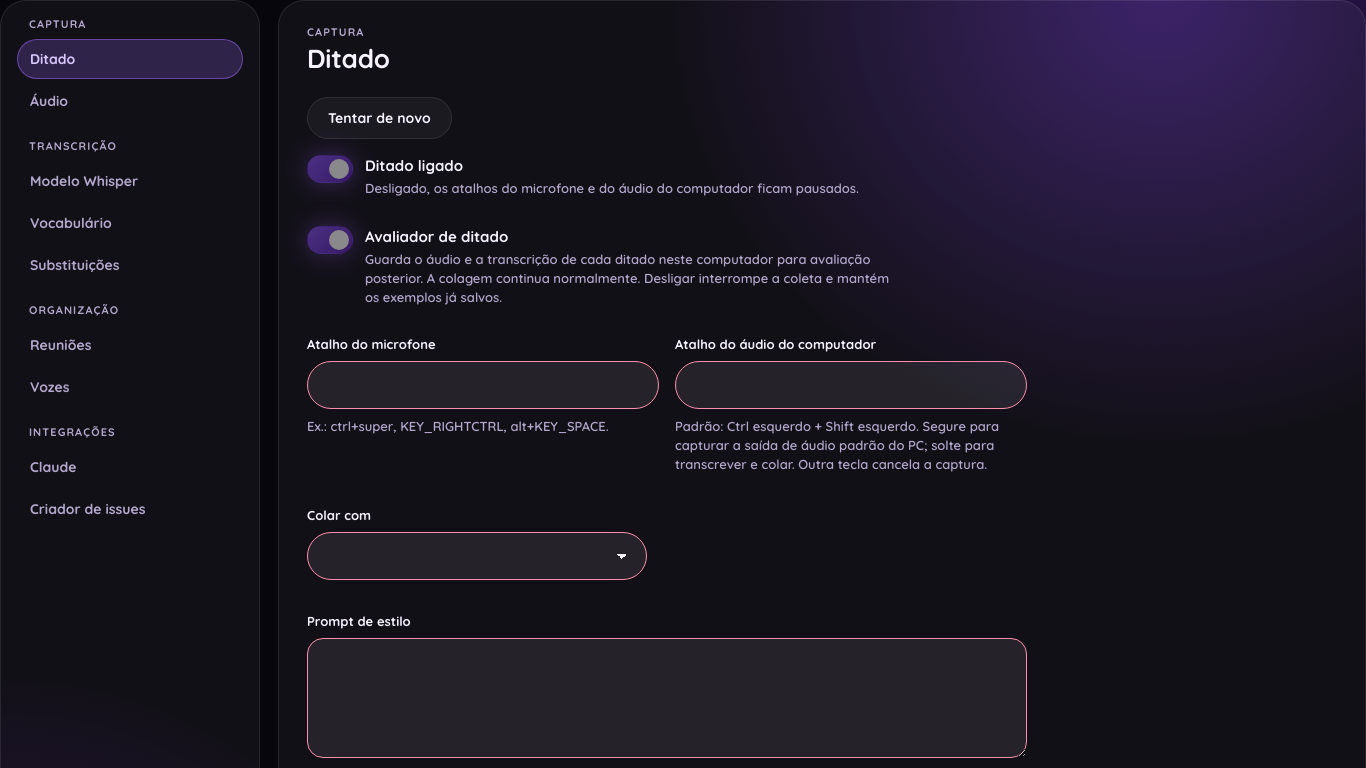
Test case: SettingsView › preserves separate unsaved text drafts when changing sections
Click the button "Vocabulário". click: (130,223)
box: 17,203 -> 243,243
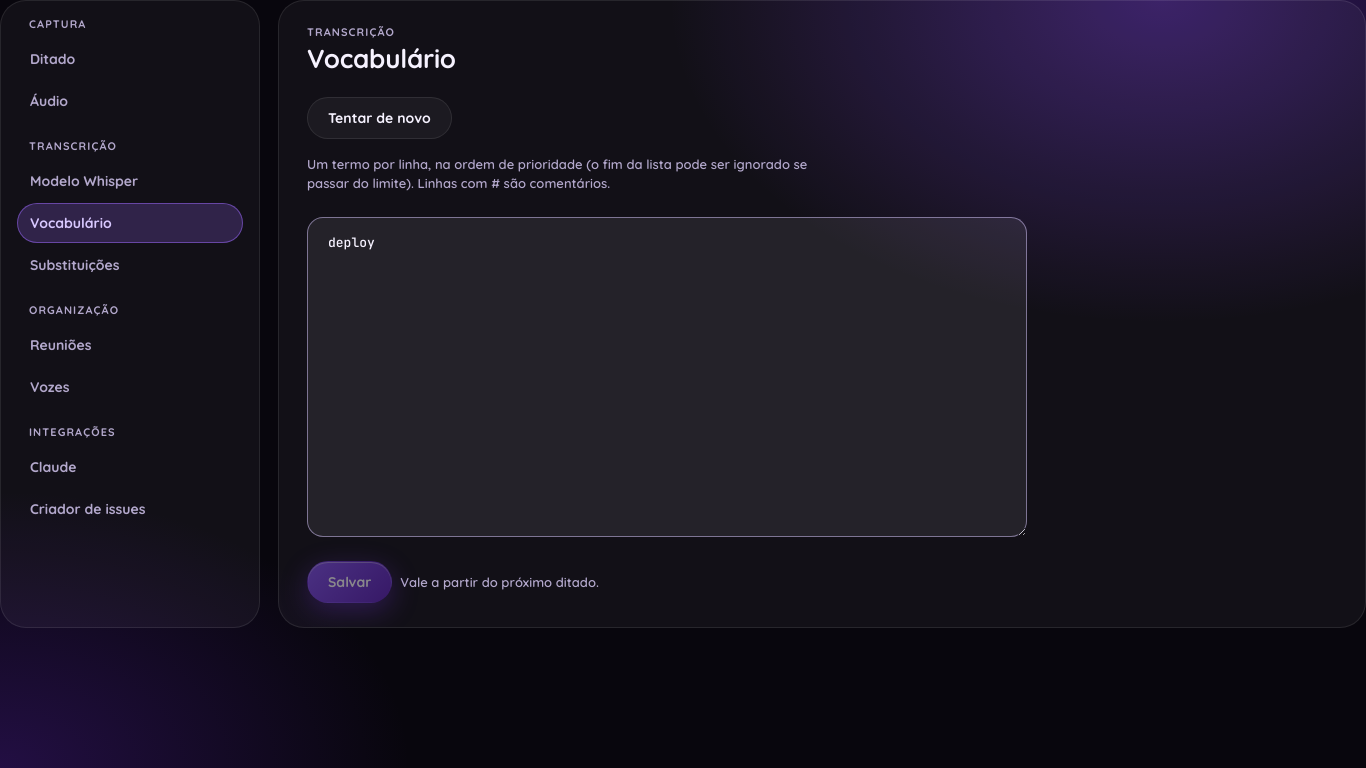
Replace the text in the text box named "Vocabulário" with "termo ainda não salvo". click: (667,377)
box: 307,217 -> 1027,537
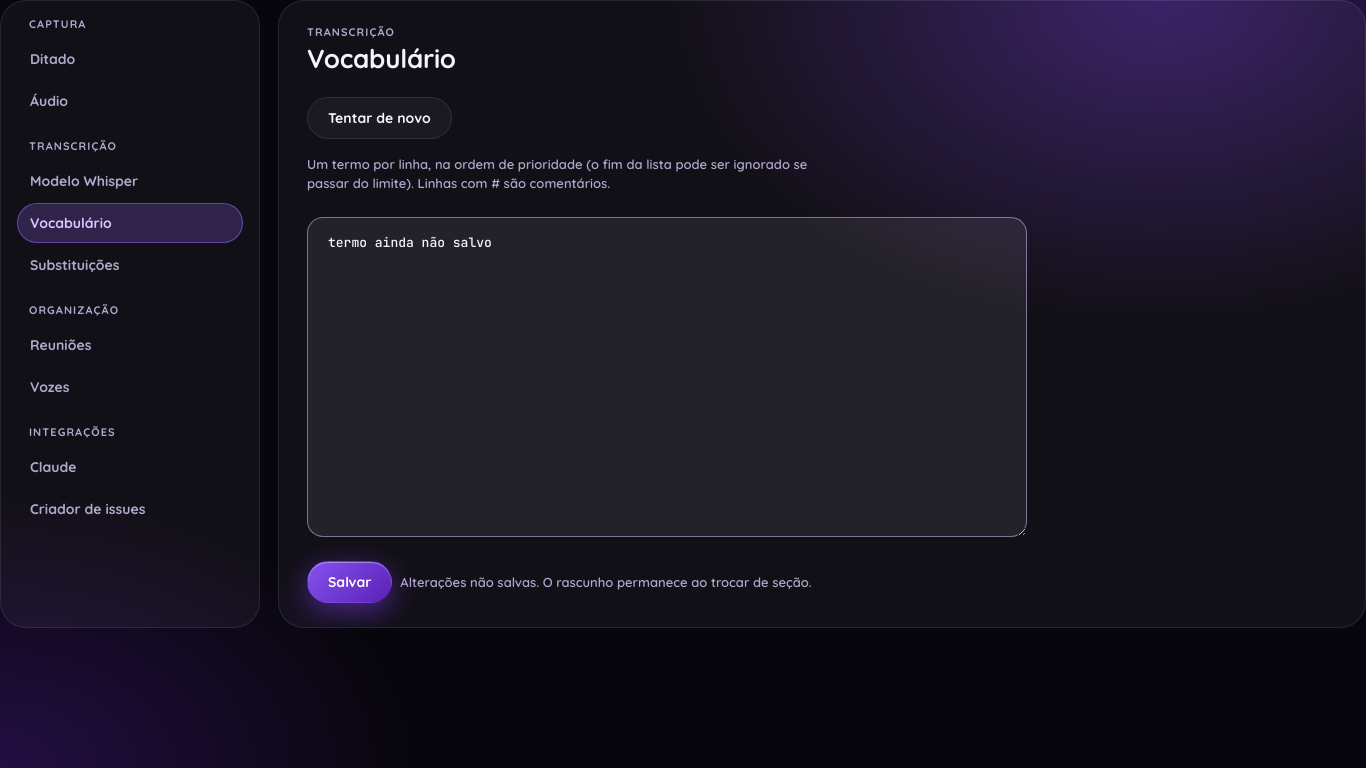
Click the button "Substituições". click: (130,265)
box: 17,245 -> 243,285
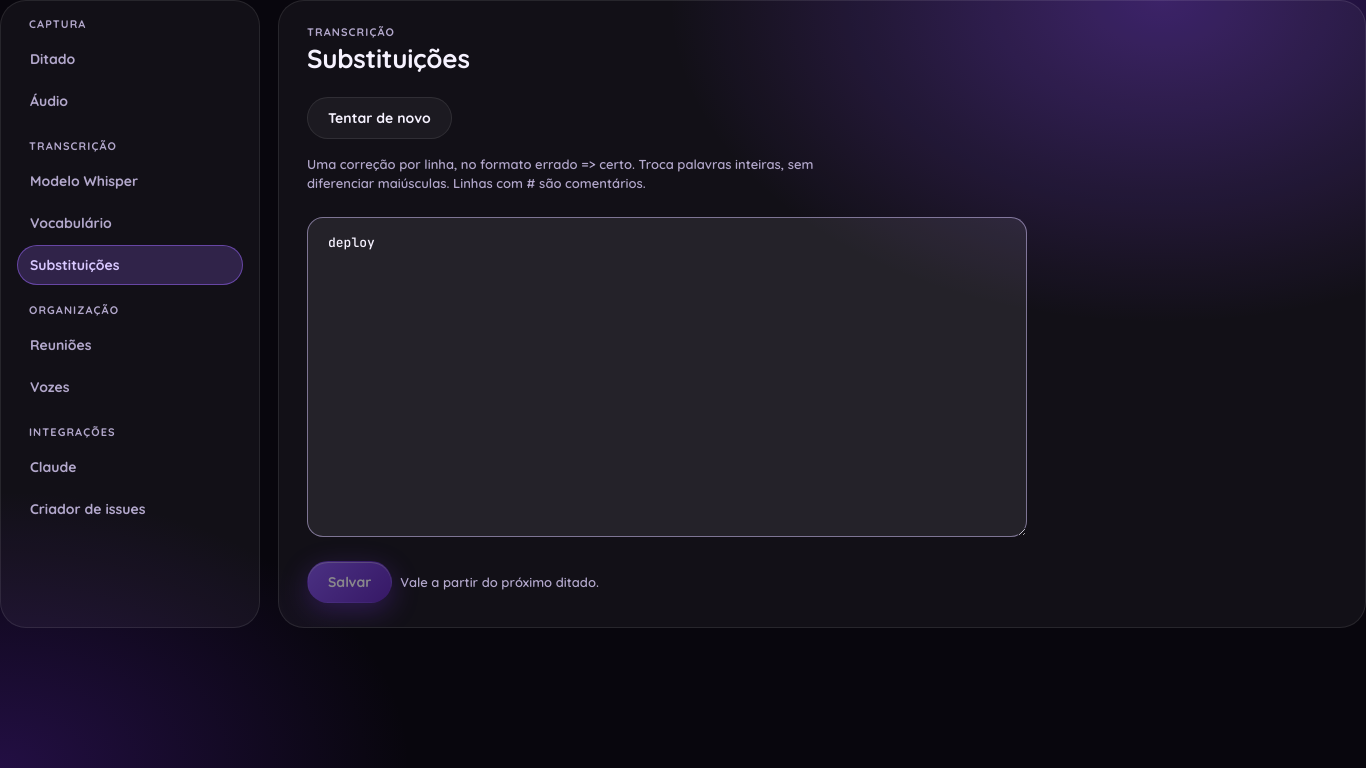
Replace the text in the text box named "Substituições" with "errado => certo". click: (667,377)
box: 307,217 -> 1027,537
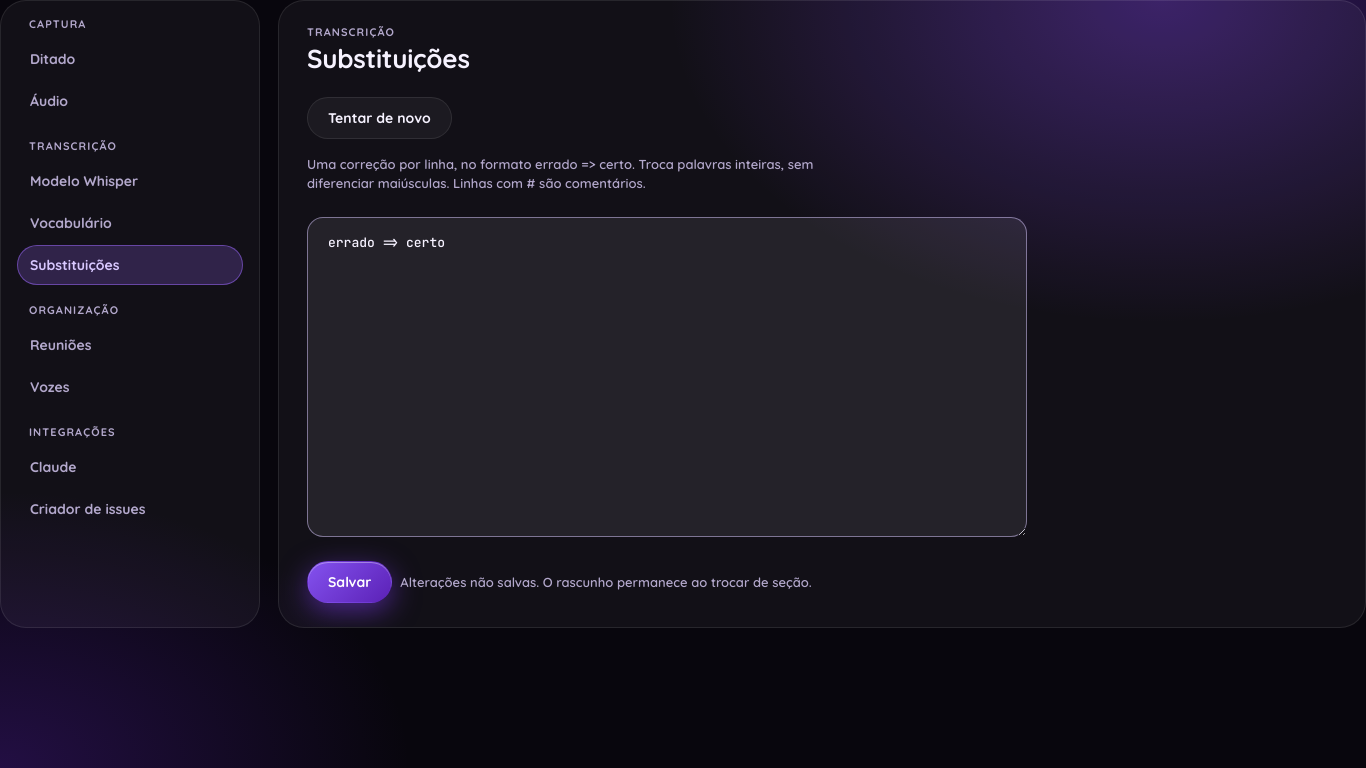
Click the button "Vocabulário". click: (130,223)
box: 17,203 -> 243,243
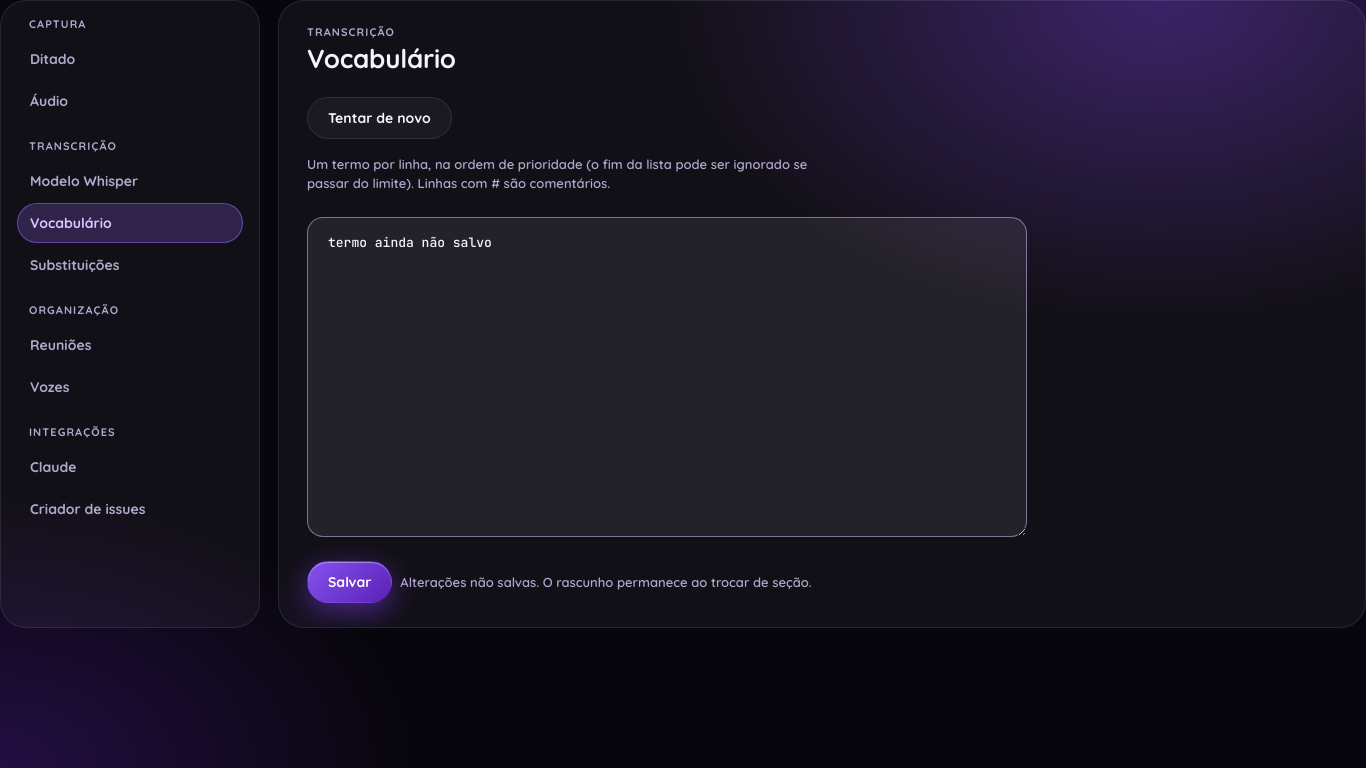
Now the text box named "Vocabulário" holds "termo ainda não salvo", box 307,217 -> 1027,537
Click the button "Substituições". click: (130,265)
box: 17,245 -> 243,285
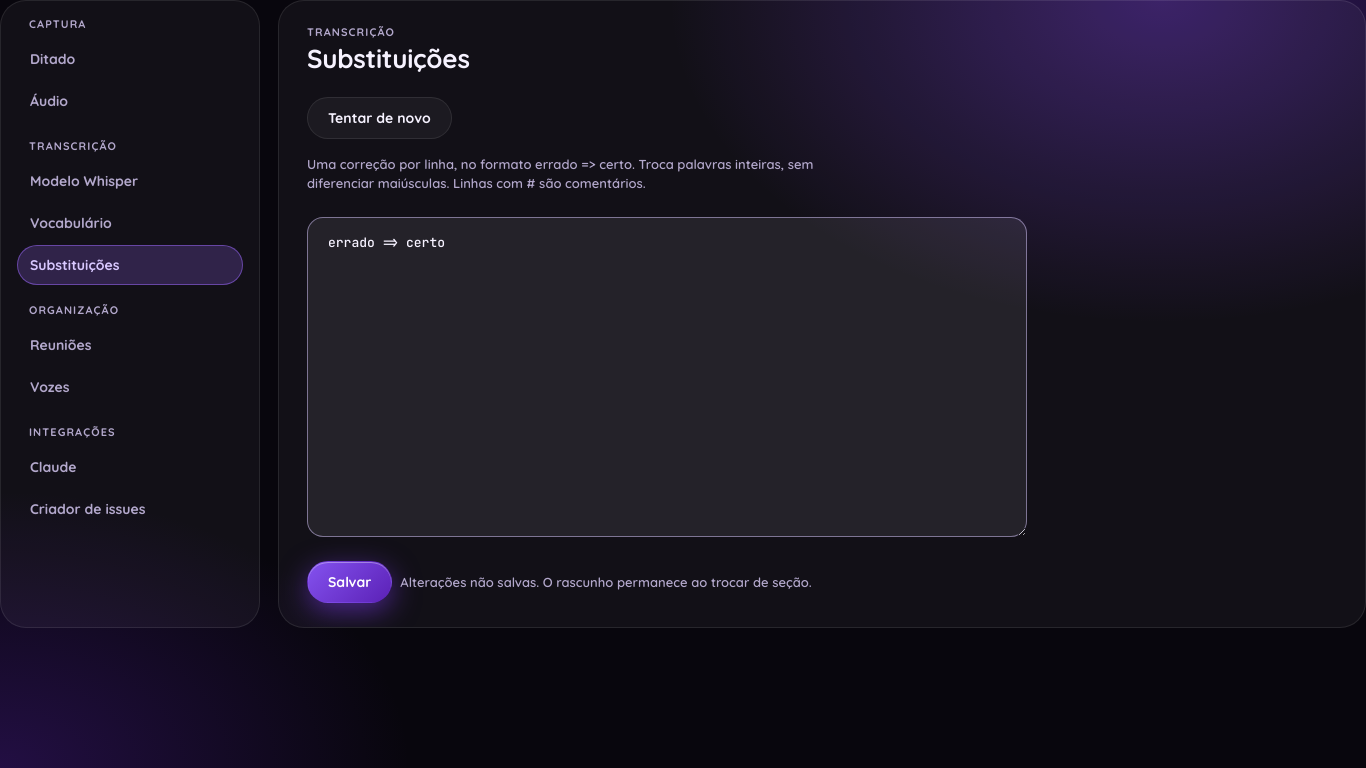
Now the text box named "Substituições" holds "errado => certo", box 307,217 -> 1027,537
